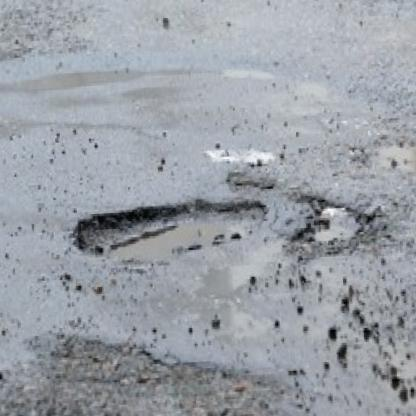pothole: (70, 194, 270, 264), (306, 196, 366, 254)
